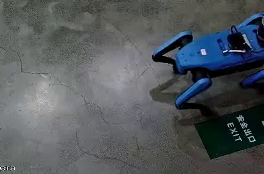robot dog: (148, 9, 264, 120)
